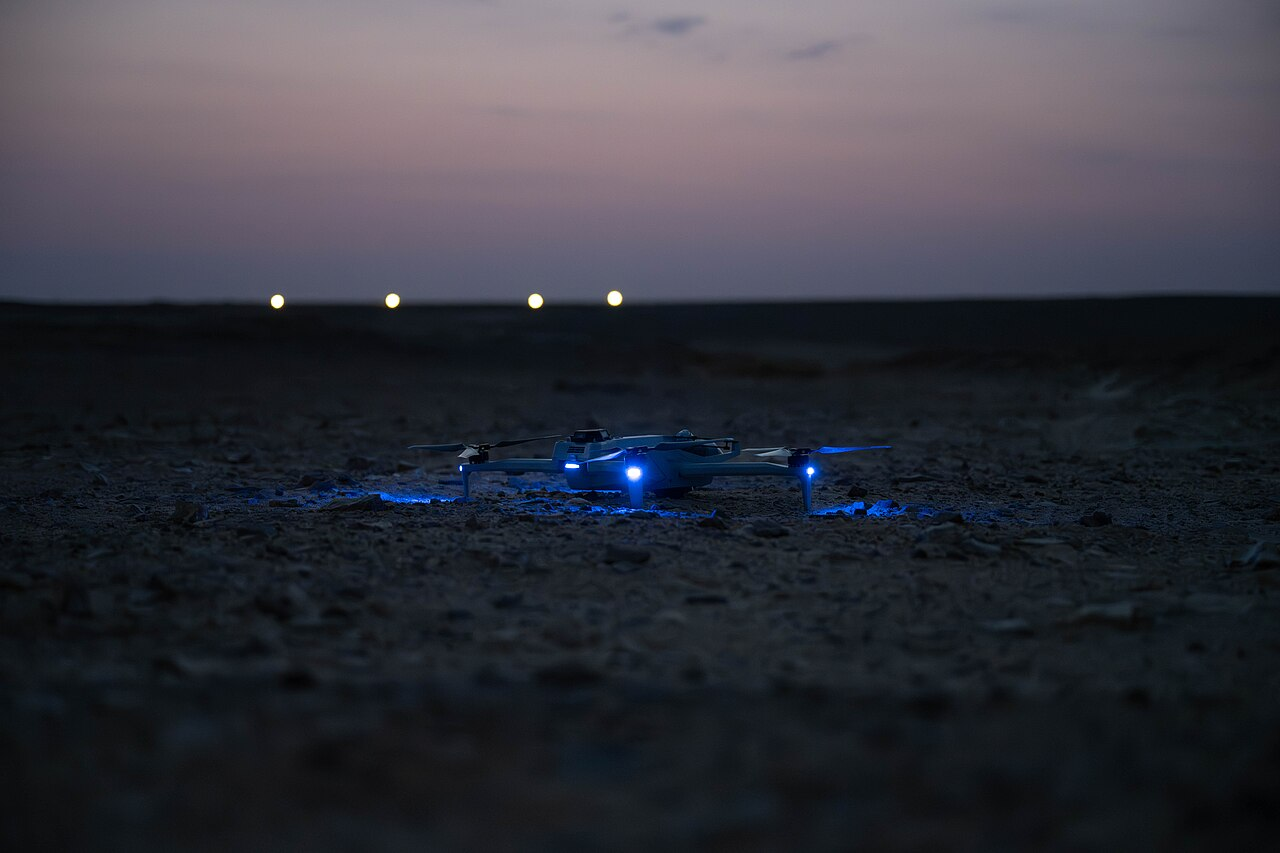drone: (403, 425, 890, 520)
